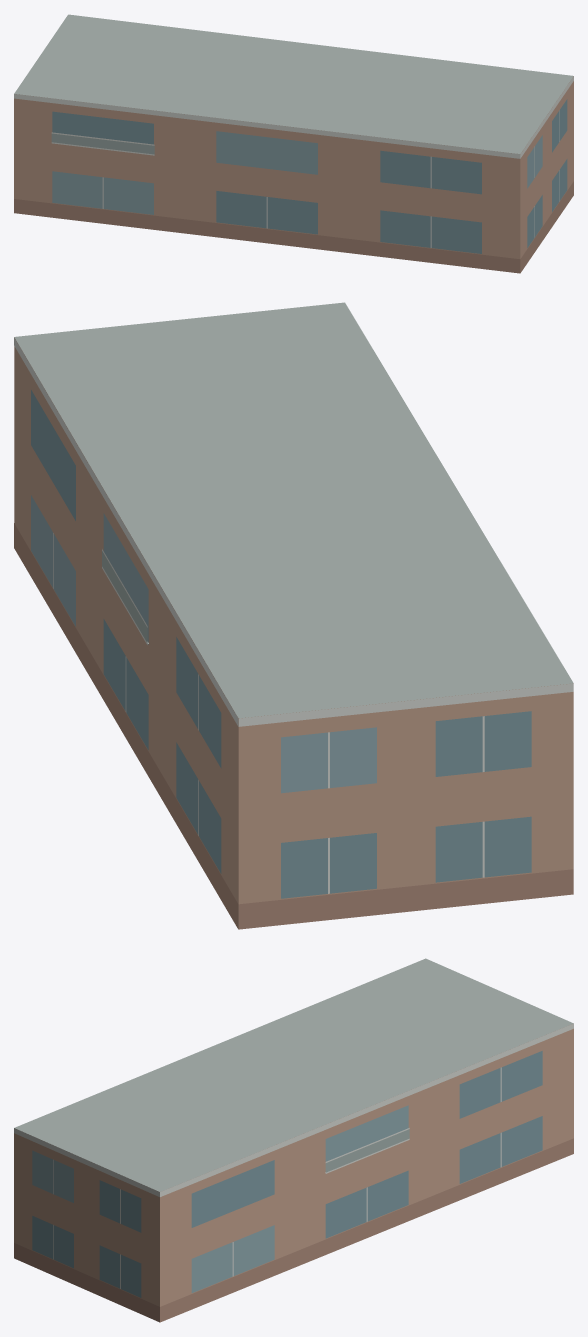
Rendered from survey-upis-32709750.glb.
The picture shows the model from 3 angles, top to bottom: view 1: azimuth 30°, elevation 25°; view 2: azimuth 150°, elevation 25°; view 3: azimuth 270°, elevation 25°; orthographic projection. The views are drawn at different scales.
Parts seen in each view (by area): view 1: survey-upis-32709750.tmp; view 2: survey-upis-32709750.tmp; view 3: survey-upis-32709750.tmp.
Boxes of the visible parts, <box> form: survey-upis-32709750.tmp: <box>14,14,573,273</box>; survey-upis-32709750.tmp: <box>14,302,573,929</box>; survey-upis-32709750.tmp: <box>14,958,573,1322</box>.
Bounding box in the file's own units: 23.44 × 6.1 × 23.74.
